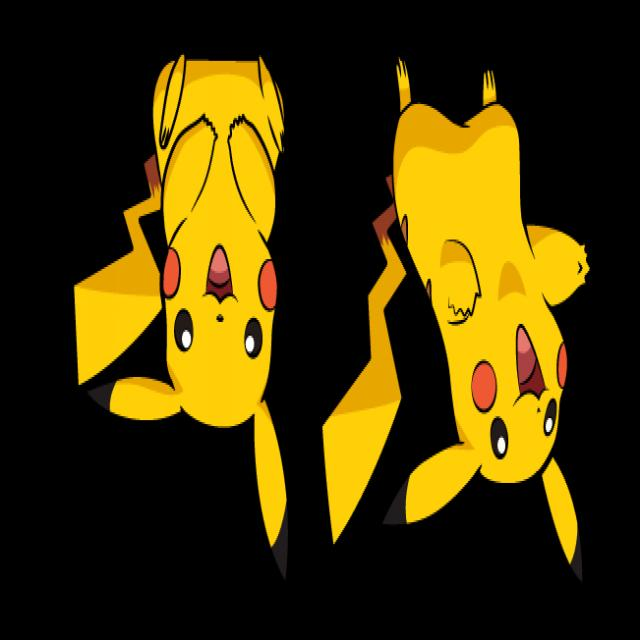Pikachu: (305, 0, 640, 637), (48, 38, 300, 613)
